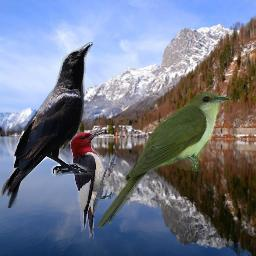Crow: (1, 42, 93, 208)
Cuckoo: (97, 91, 231, 231)
Woodpecker: (70, 129, 116, 239)
